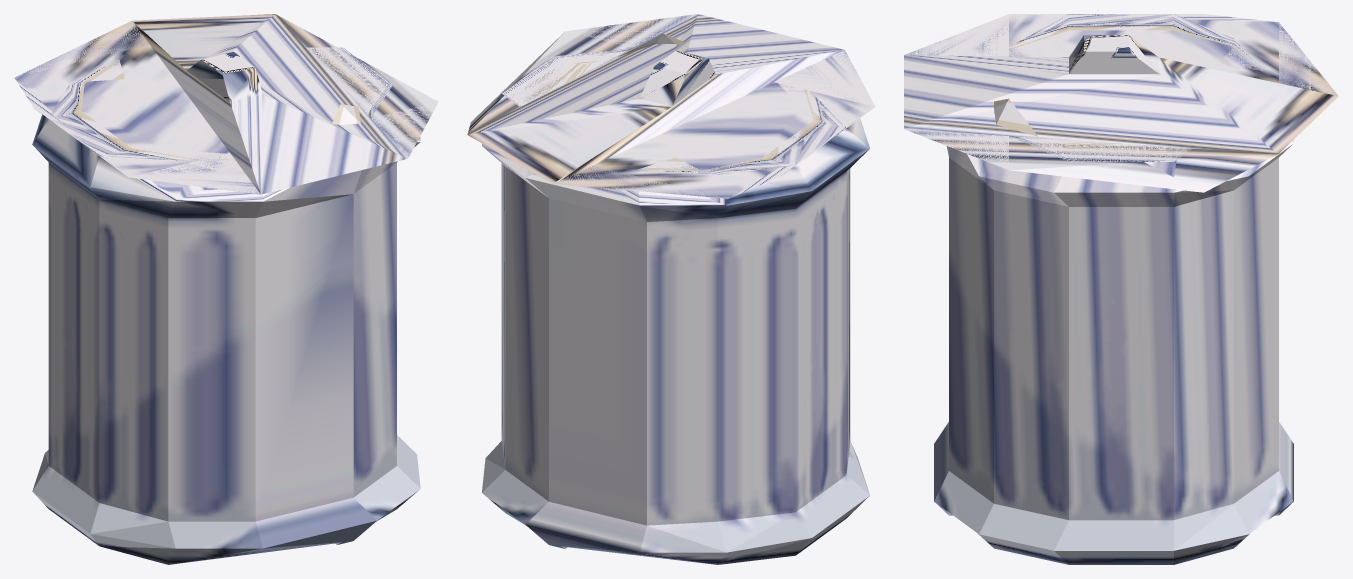
The model's file is InvTrash.glb.
3 views of the same model, side by side, from view 1: azimuth 30°, elevation 25°; view 2: azimuth 150°, elevation 25°; view 3: azimuth 270°, elevation 25° (orthographic). The views are drawn at different scales.
Visible parts, largest first — view 1: InvTrash; view 2: InvTrash; view 3: InvTrash.
Boxes of the visible parts, bbox=[...] form: InvTrash: bbox=[14, 14, 438, 564]; InvTrash: bbox=[467, 14, 875, 564]; InvTrash: bbox=[904, 14, 1338, 564].
Bounding box in the file's own units: 11.21 × 14.21 × 12.51.
Materials: 1 (1 with a texture image).
